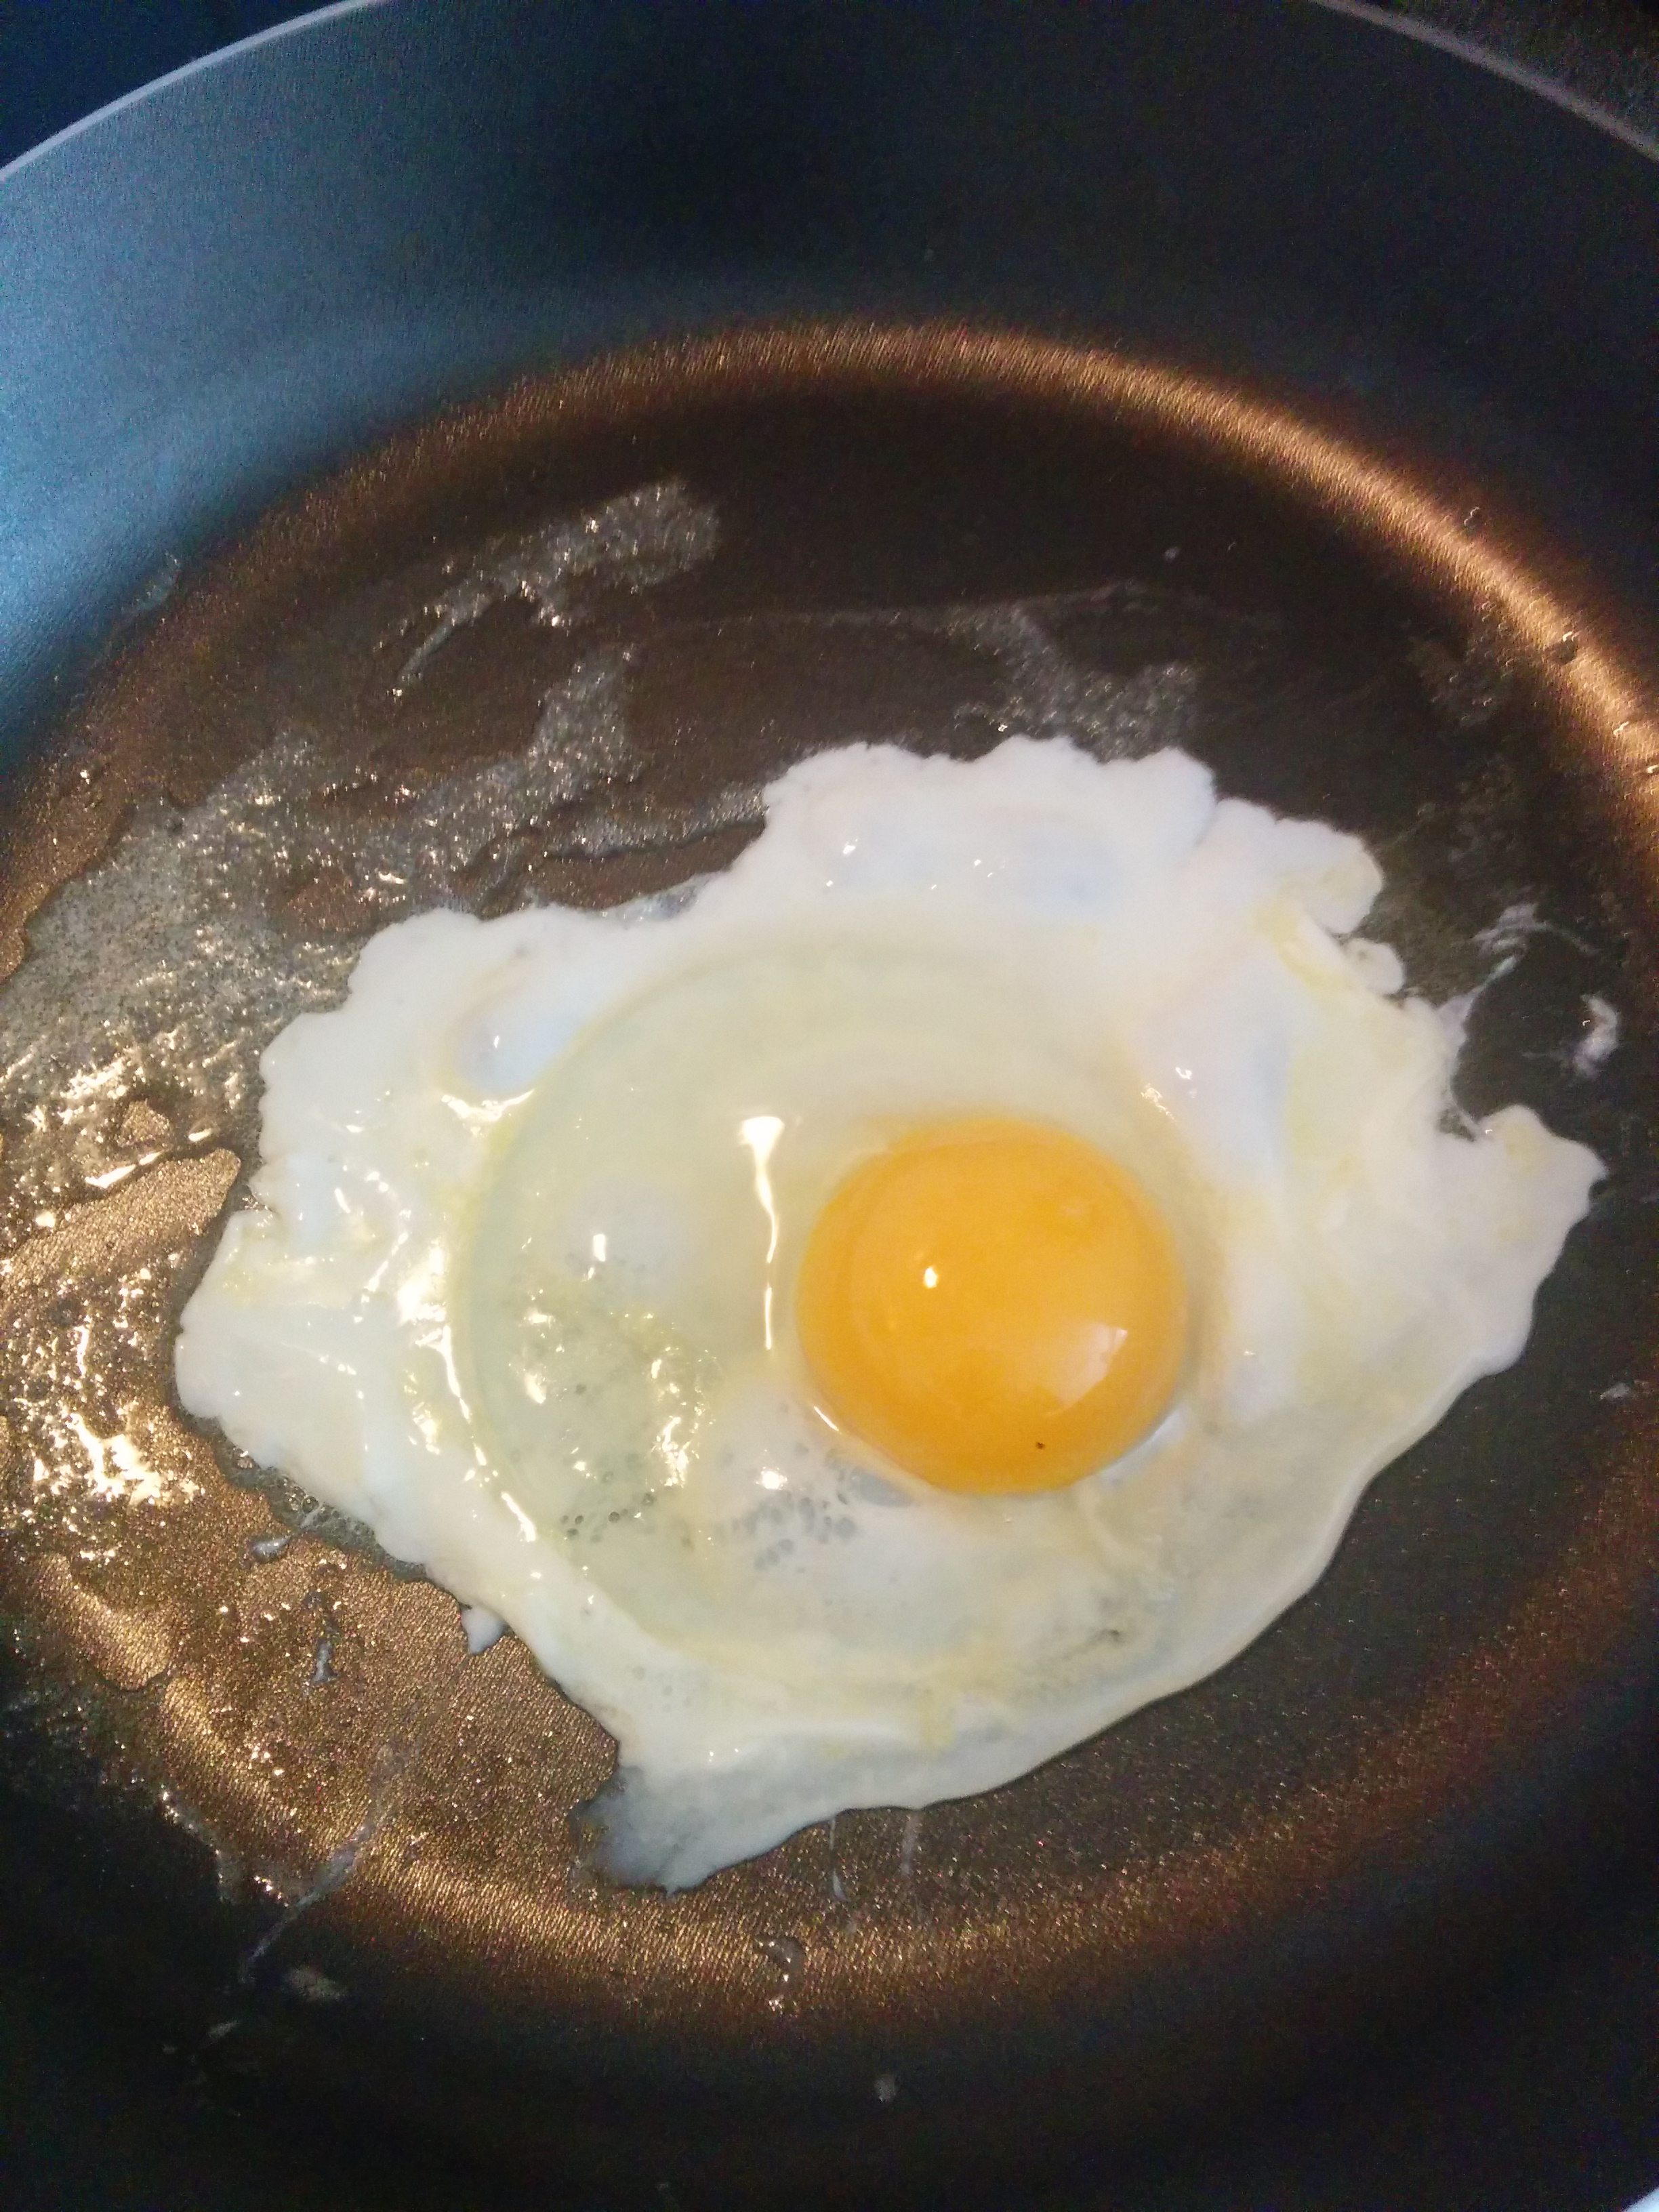fried egg: (295, 895, 1450, 1717)
